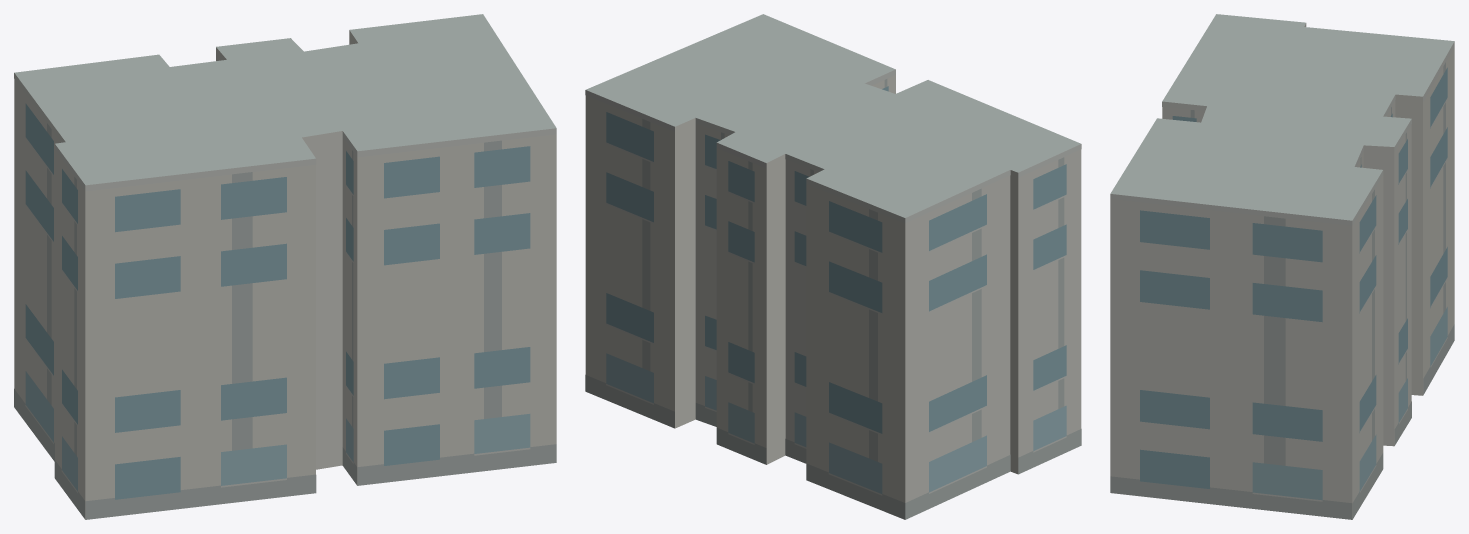
The model's file is survey-upis-32676884.glb.
3 renders of one model, left to right at view 1: azimuth 30°, elevation 25°; view 2: azimuth 150°, elevation 25°; view 3: azimuth 270°, elevation 25°, orthographic. The views are drawn at different scales.
Parts seen in each view (by area): view 1: survey-upis-32676884.tmp; view 2: survey-upis-32676884.tmp; view 3: survey-upis-32676884.tmp.
Part boxes in pixels (x1,y1,x2,y2): survey-upis-32676884.tmp: (14,14,556,519); survey-upis-32676884.tmp: (585,14,1081,519); survey-upis-32676884.tmp: (1110,14,1454,519).
Bounding box in the file's own units: 20.16 × 13.6 × 14.2.
